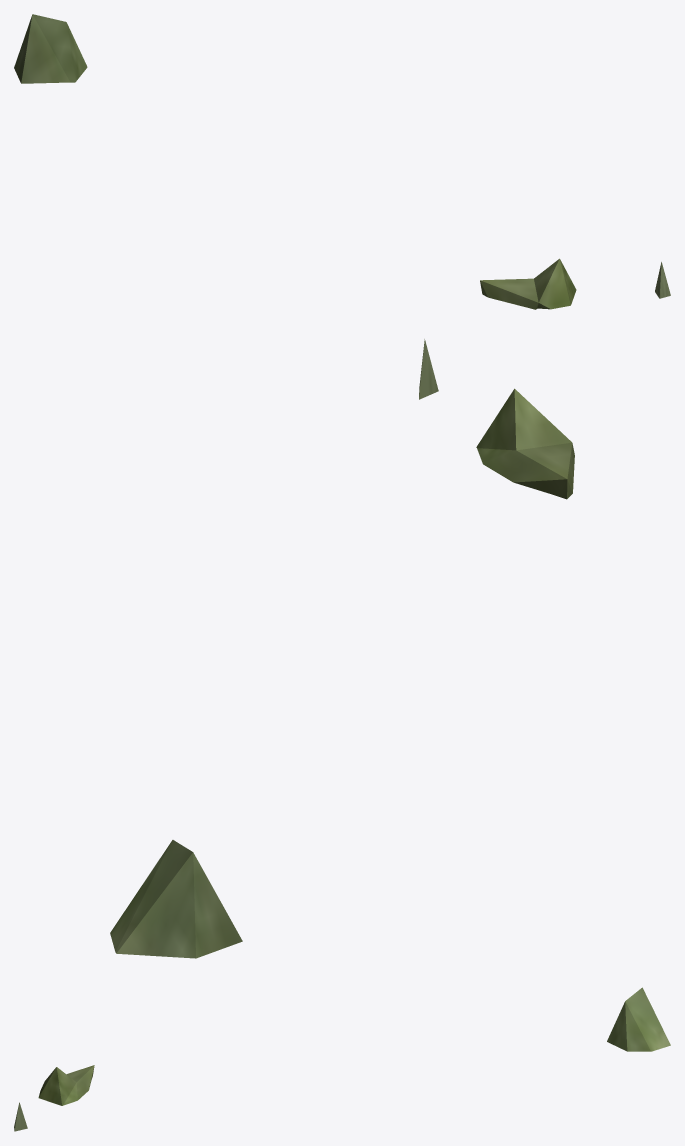
The picture shows the model from 3 angles, top to bottom: view 1: azimuth 30°, elevation 25°; view 2: azimuth 150°, elevation 25°; view 3: azimuth 270°, elevation 25°; orthographic projection. The views are drawn at different scales.
Size of the model in its own units: 8.5 by 1.73 by 22.19.
1 material, 1 textured.
